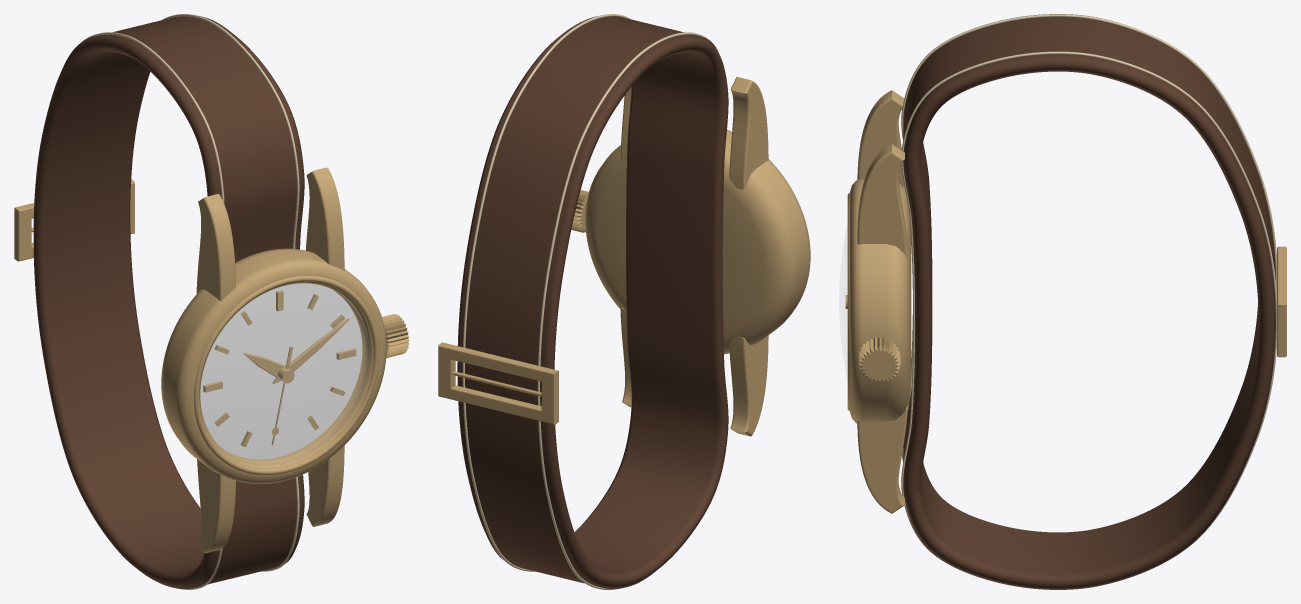
The model's file is meridian-watch.glb.
The picture shows the model from 3 angles, left to right: view 1: azimuth 30°, elevation 25°; view 2: azimuth 150°, elevation 25°; view 3: azimuth 270°, elevation 25°; orthographic projection.
Parts seen in each view (by area): view 1: Strap, Dial, Case, Bezel, LugUpL, LugUpR, LugDownL, LugDownR, Buckle, StitchR, StitchL, Crown (+1 smaller); view 2: Strap, Case, Buckle, LugUpL, LugDownL, StitchL, StitchR, LugDownR, LugUpR; view 3: Strap, Case, LugUpR, LugDownR, StitchR, LugUpL, StitchL, Crown, Buckle, Bezel.
Boxes of the visible parts, x1,y1,x2,y2 form: Strap: (33, 16, 304, 588); Dial: (200, 283, 362, 459); Case: (161, 248, 386, 483); Bezel: (194, 276, 379, 475); LugUpL: (196, 194, 235, 300); LugUpR: (305, 167, 344, 270); LugDownL: (197, 459, 235, 553); LugDownR: (306, 445, 344, 526); Buckle: (14, 179, 134, 261); StitchR: (162, 14, 299, 571); StitchL: (82, 32, 224, 589); Crown: (382, 314, 409, 357); Strap: (457, 16, 728, 588); Case: (585, 129, 810, 354); Buckle: (438, 342, 558, 424); LugUpL: (729, 77, 768, 189); LugDownL: (729, 335, 768, 436); StitchL: (537, 32, 708, 589); StitchR: (462, 14, 630, 571); LugDownR: (620, 308, 631, 407); LugUpR: (620, 87, 631, 161); Strap: (903, 14, 1275, 589); Case: (849, 179, 911, 423); LugUpR: (857, 144, 907, 256); LugDownR: (857, 406, 907, 513); StitchR: (901, 51, 1276, 566); LugUpL: (857, 90, 904, 187); StitchL: (901, 14, 1276, 462); Crown: (858, 337, 900, 383); Buckle: (1277, 246, 1286, 357); Bezel: (847, 193, 849, 410).
Size of the model in its own units: 0.446 by 0.9668 by 0.73.
